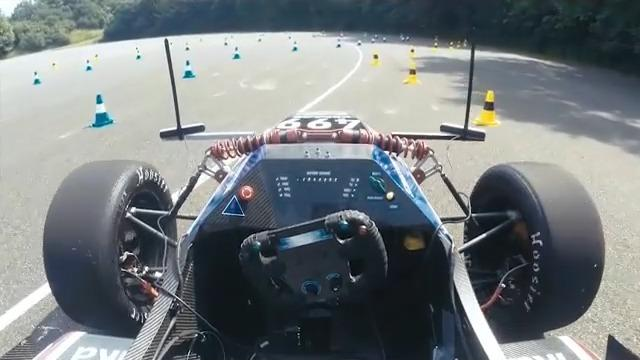blue_cone: (88, 92, 118, 129), (179, 59, 197, 81), (229, 45, 243, 63), (30, 70, 45, 86), (83, 59, 95, 74), (290, 40, 300, 54), (182, 41, 192, 53), (136, 51, 144, 62), (335, 38, 342, 49), (357, 37, 364, 48)
yellow_cone: (474, 86, 500, 130), (402, 61, 420, 85), (369, 49, 383, 68), (407, 45, 419, 60), (447, 40, 455, 54), (50, 60, 59, 72), (431, 41, 440, 53), (93, 52, 101, 62)
